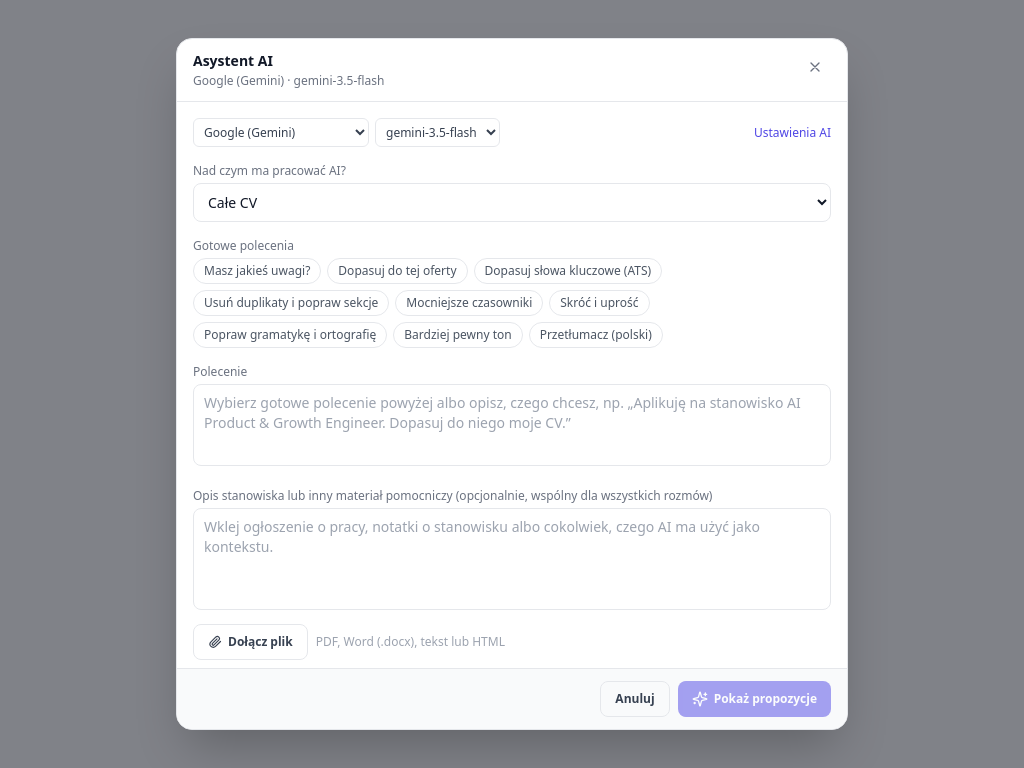
Test: a conversation in Polish › labels the suggestions in Polish
The width and height of the screenshot is (1024, 768).
Replace the text in the text box labelled "Polecenie" with "Popraw mój opis". click: (512, 425)
box: [193,384,831,466]
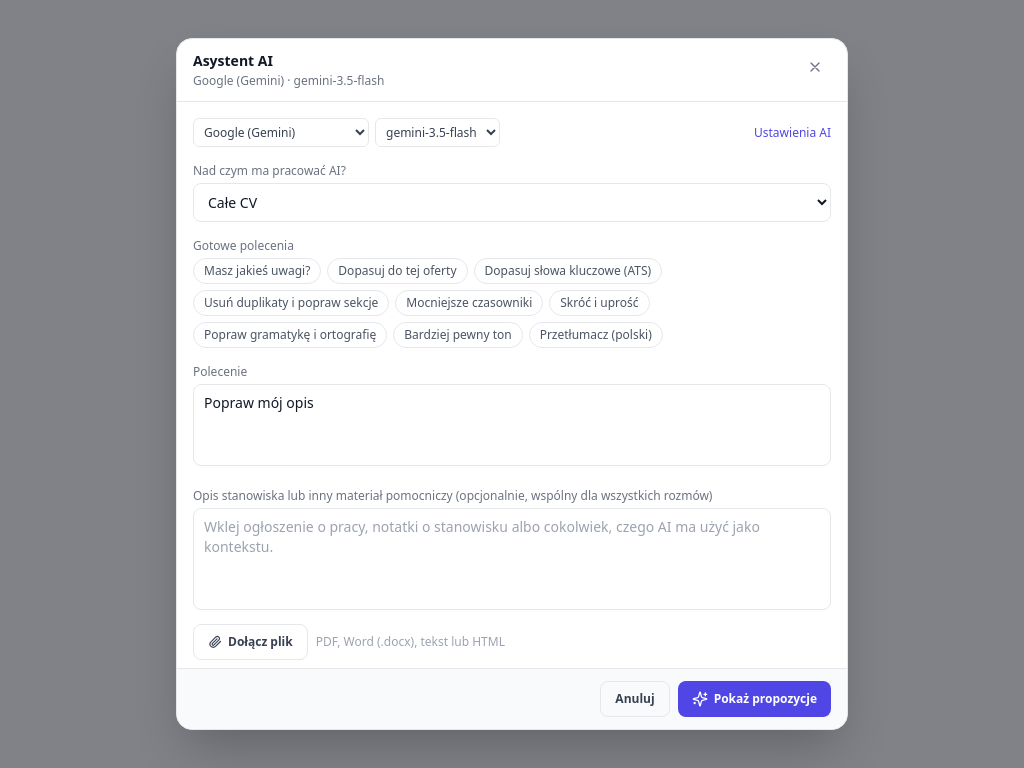
Click the button "Pokaż propozycje". click: click(754, 699)
box: [678,681,831,717]
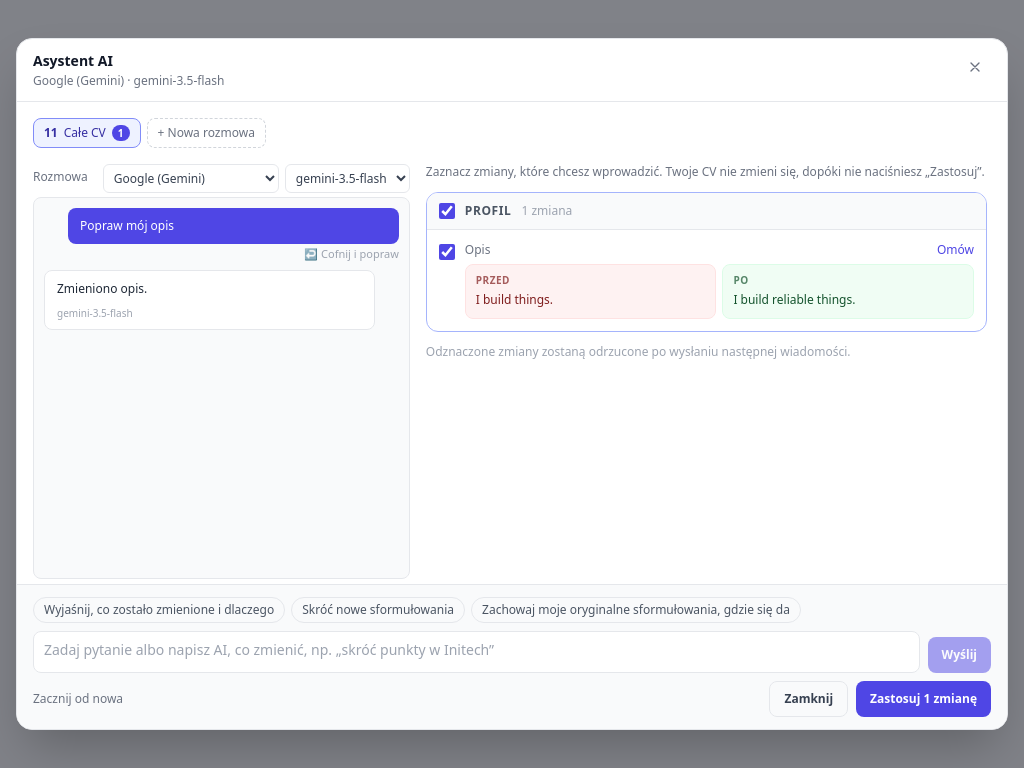
expect the button "Zastosuj 1 zmianę" is enabled: met, box [856,681,991,717]
expect the text "Zaznacz zmiany, które chcesz wprowadzić" is shown: met, box [426,164,985,180]
expect the text "Przed" is shown: met, box [476,273,510,287]
